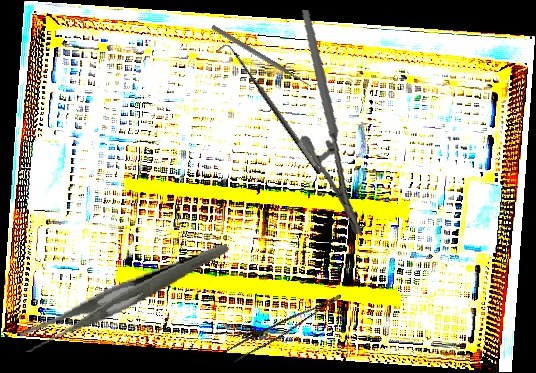Dressing Forceps: (11, 244, 238, 353)
Hook Surgical: (215, 38, 325, 183)
Needle Holder: (278, 9, 387, 235)
Pusher: (210, 23, 313, 90)
Tissue Forceps: (226, 282, 342, 366)
